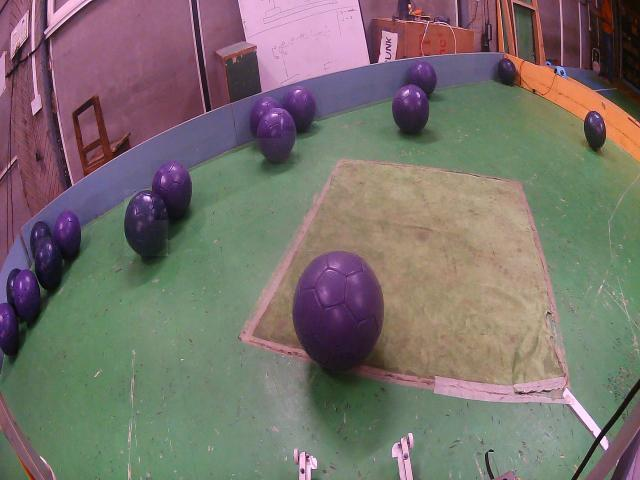jambhalya: (293, 251, 384, 371), (152, 160, 191, 220), (256, 108, 297, 162), (393, 85, 429, 134), (283, 86, 317, 131), (14, 270, 41, 322), (53, 210, 81, 259), (250, 97, 281, 138), (409, 61, 436, 96), (0, 304, 18, 355)
kaalyya: (125, 190, 168, 256), (35, 238, 62, 291), (584, 112, 606, 149), (30, 221, 51, 255), (6, 268, 21, 315), (498, 58, 517, 85)
